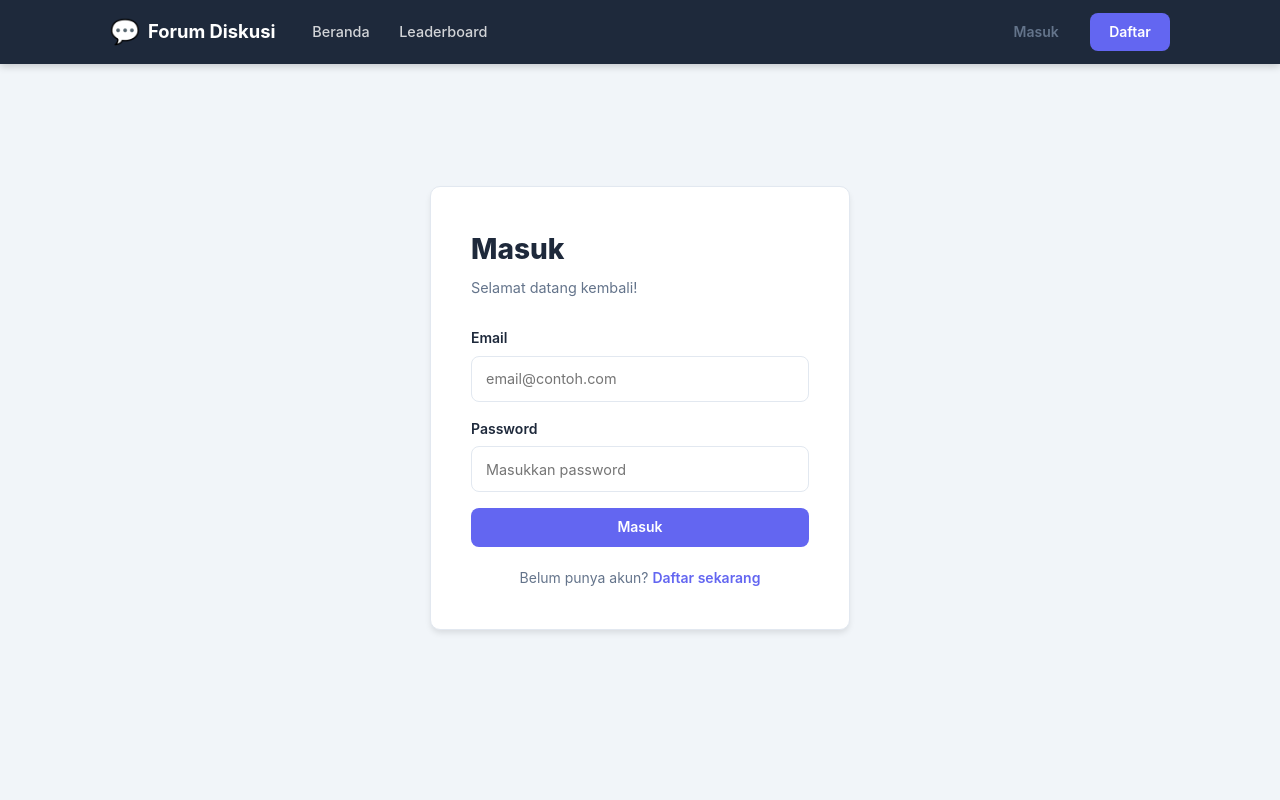
Test: Login Spec › should show error message with invalid credentials
Act (Aksi yang dilakukan, seperti interaksi user atau dispatch thunk)
In the field with placeholder "email@contoh.com": (640, 379) [471, 356, 809, 402], type "wrong1232@example.com"
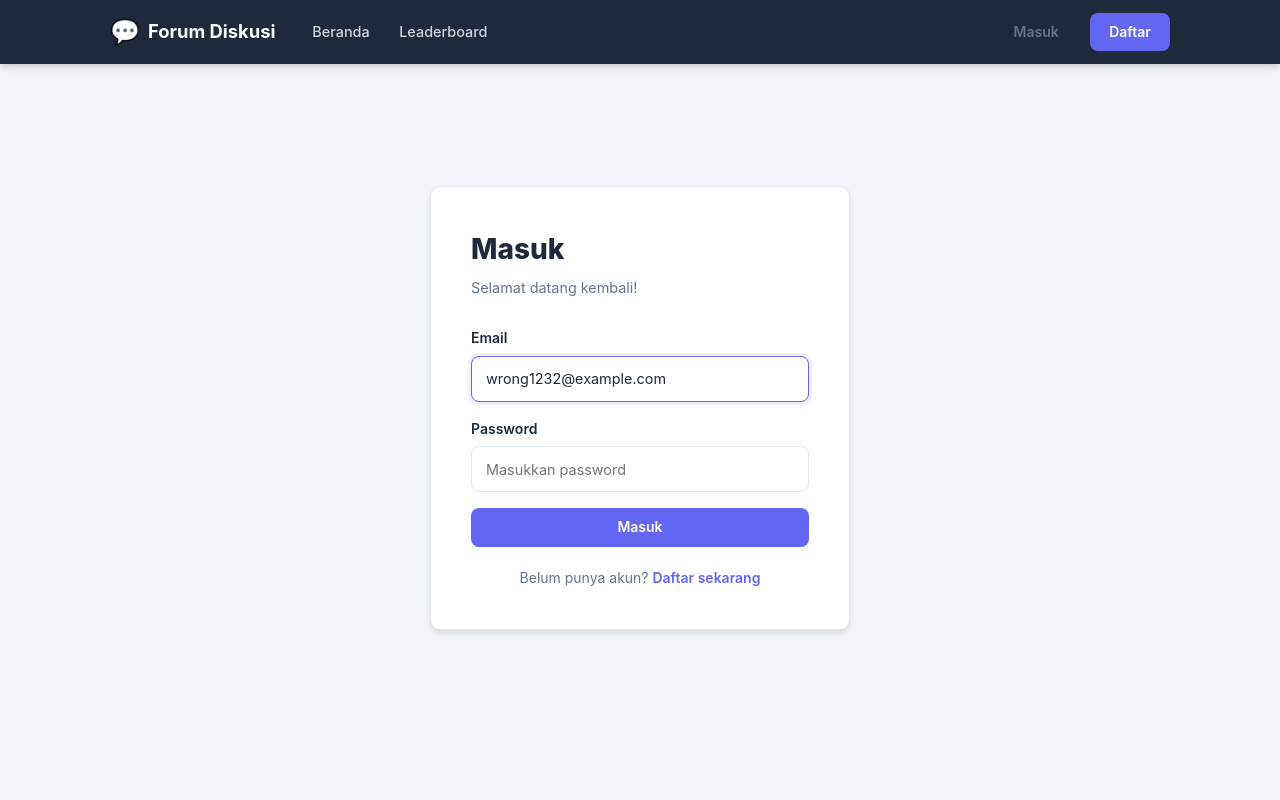
In the password field with placeholder "Masukkan password": (640, 469) [471, 446, 809, 492], type "wrongpassword128378"
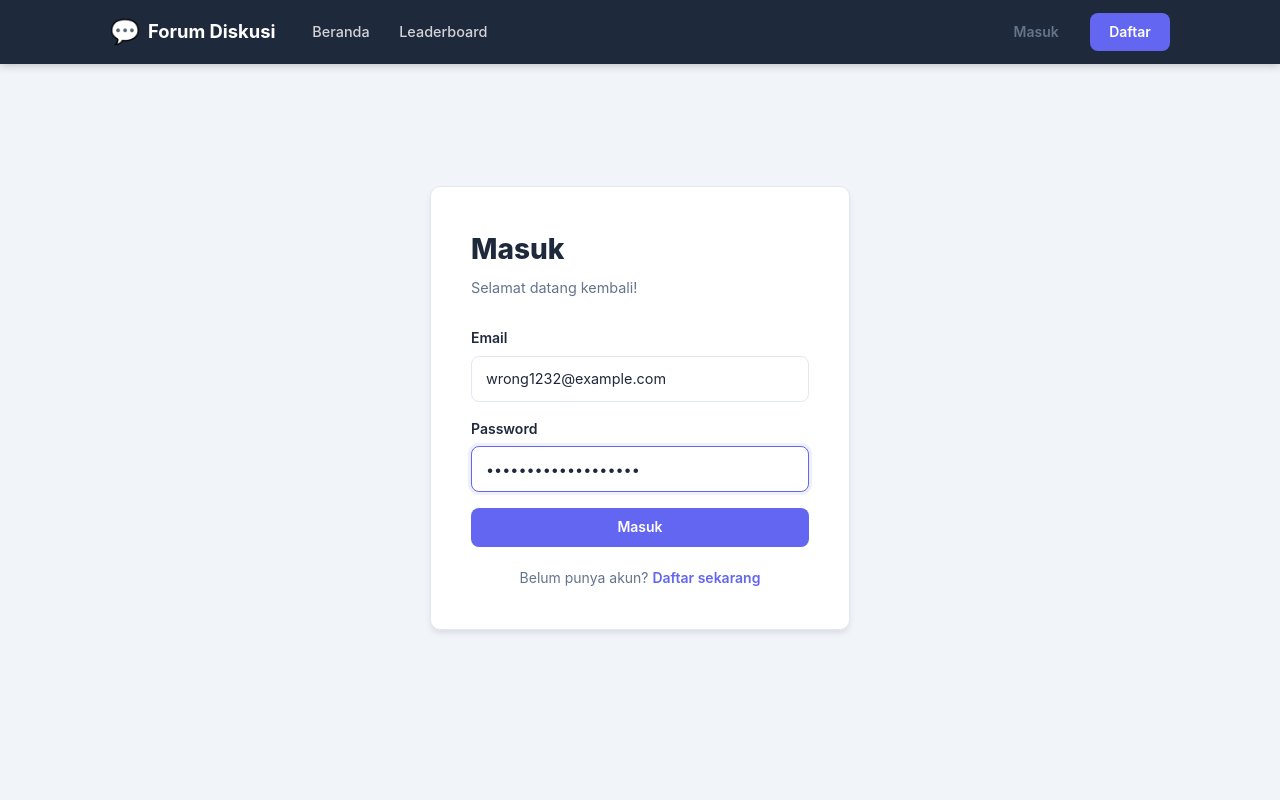
Click the button "Masuk": (640, 527) [471, 508, 809, 546]
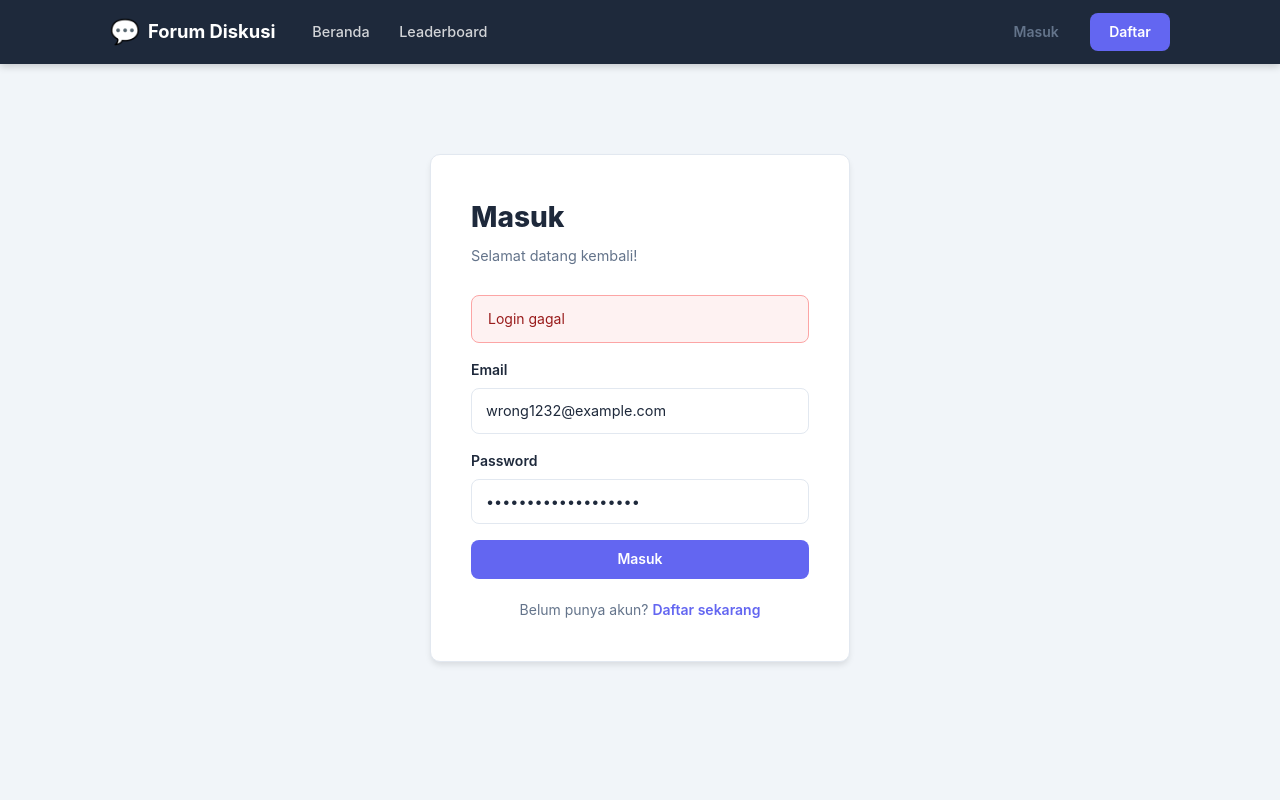
Expected: the text "Login gagal" is shown, [471, 295, 809, 343]
